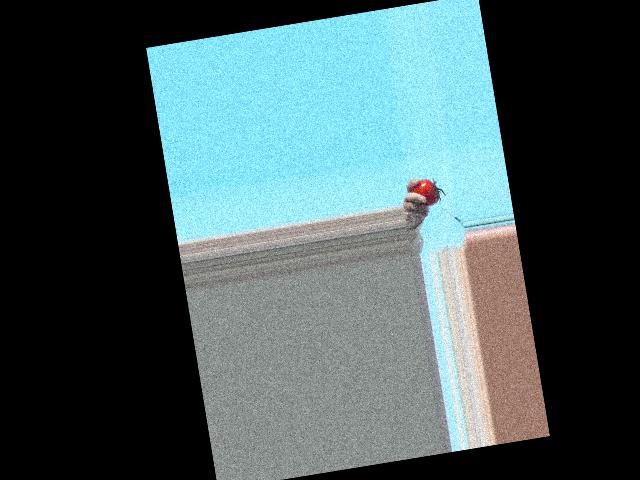tomato: (409, 176, 440, 208)
